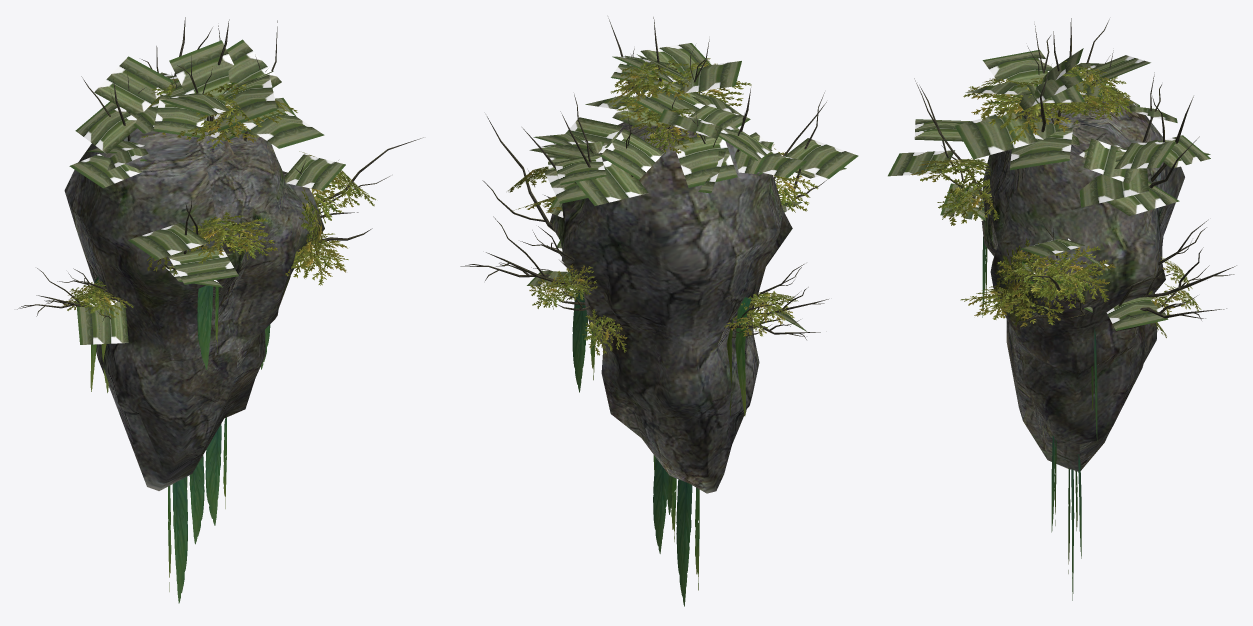
Rendered from S_Rock_Green004.FBX.
3 views of the same model, side by side, from view 1: azimuth 30°, elevation 25°; view 2: azimuth 150°, elevation 25°; view 3: azimuth 270°, elevation 25° (orthographic). The views are drawn at different scales.
Parts seen in each view (by area): view 1: S_Rock_Green004; view 2: S_Rock_Green004; view 3: S_Rock_Green004.
Boxes of the visible parts, x1,y1,x2,y2 form: S_Rock_Green004: [17, 17, 423, 603]; S_Rock_Green004: [460, 17, 858, 606]; S_Rock_Green004: [888, 18, 1236, 600].
Bounding box in the file's own units: 950 × 745 × 1404.
